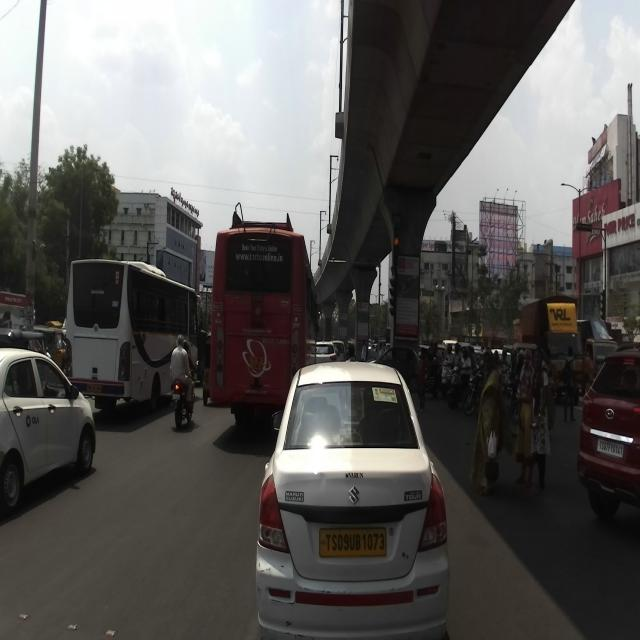Car_Hyundai: (0, 348, 97, 514), (575, 339, 638, 521)
Car_Maruti-Suzuki: (257, 361, 451, 638)
Car_TATA: (366, 345, 424, 393)
bus: (209, 202, 319, 426), (66, 258, 202, 420)
motorcycle_Hero: (170, 359, 199, 429)
